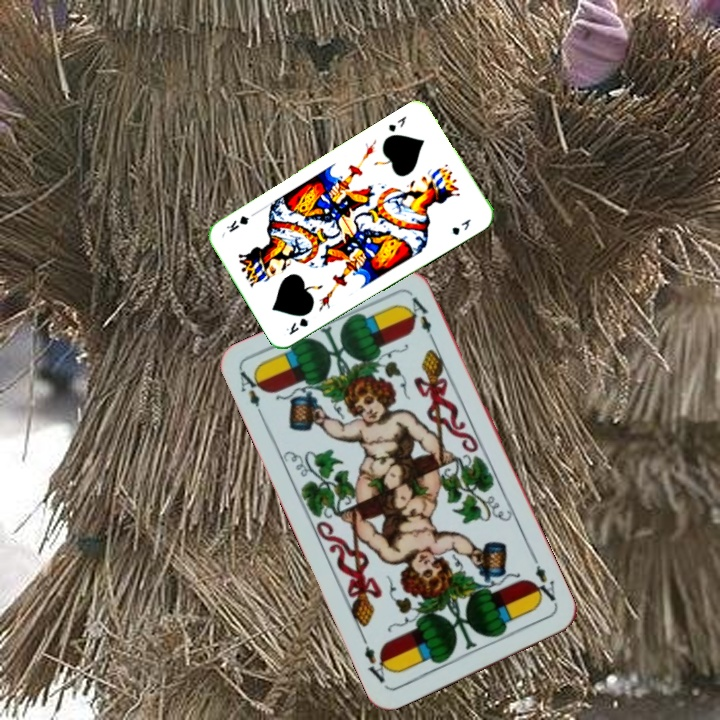EA: (235, 365, 267, 423), (526, 553, 559, 605)
GK: (282, 314, 311, 338), (384, 112, 409, 135)
